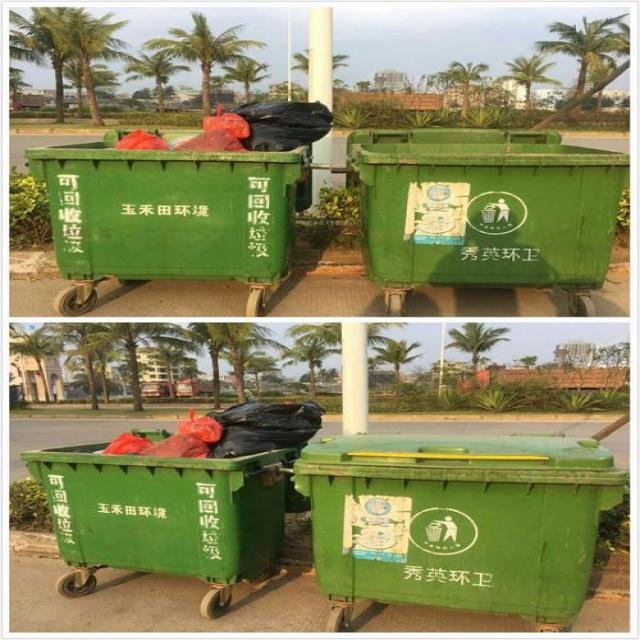garbage_bin: (289, 433, 625, 620), (344, 128, 630, 289)
overflow: (19, 398, 324, 582), (26, 102, 332, 274)
